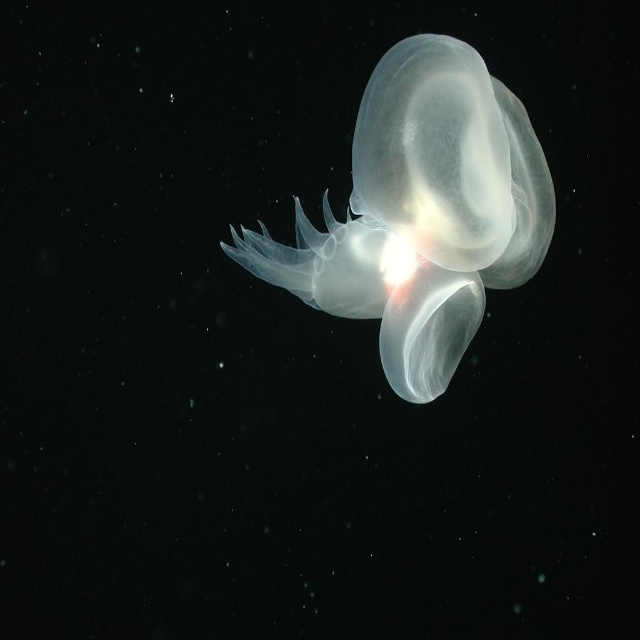Jellyfish: (312, 35, 554, 388)
